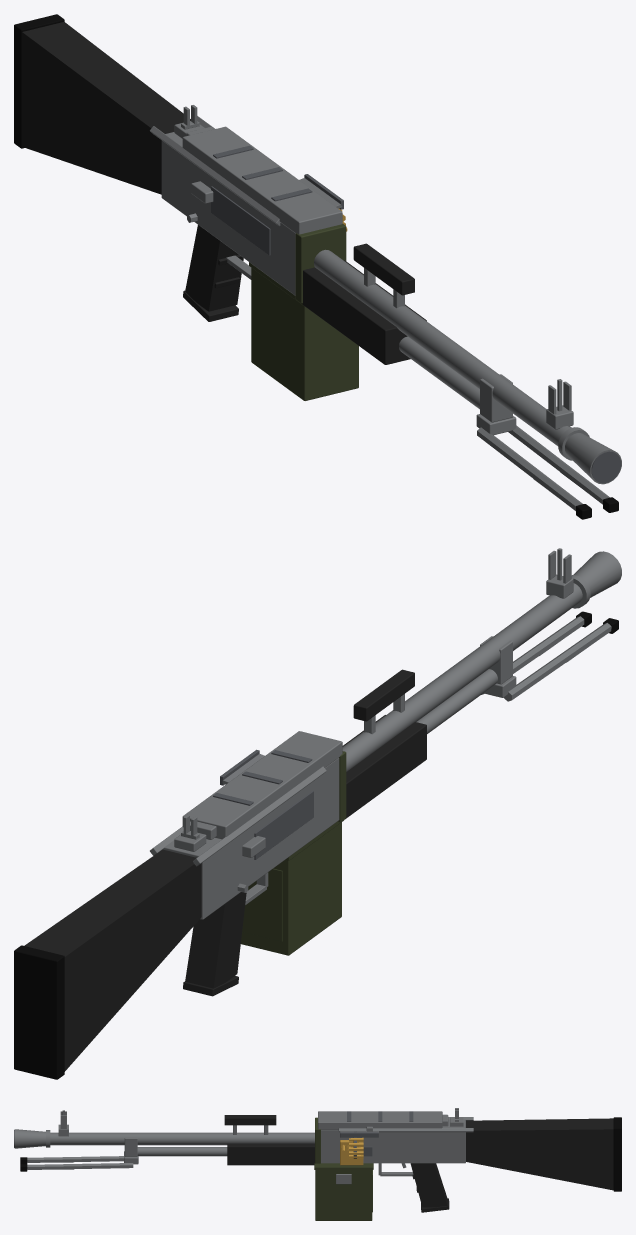
The picture shows the model from 3 angles, top to bottom: view 1: azimuth 30°, elevation 25°; view 2: azimuth 150°, elevation 25°; view 3: azimuth 270°, elevation 25°; orthographic projection. The views are drawn at different scales.
Visible parts, largest first — view 1: Body, Magazine, Cover; view 2: Body, Magazine, Cover; view 3: Body, Magazine, Cover.
Boxes of the visible parts, x1=… form: Body: x1=14, y1=14, x2=621, y2=519; Magazine: x1=249, y1=227, x2=358, y2=400; Cover: x1=182, y1=126, x2=342, y2=234; Body: x1=14, y1=548, x2=621, y2=1079; Magazine: x1=241, y1=820, x2=343, y2=955; Cover: x1=182, y1=731, x2=342, y2=839; Body: x1=14, y1=1108, x2=621, y2=1212; Magazine: x1=314, y1=1140, x2=373, y2=1220; Cover: x1=318, y1=1111, x2=448, y2=1129.
Bounding box in the file's own units: 0.101 × 0.218 × 1.17.
